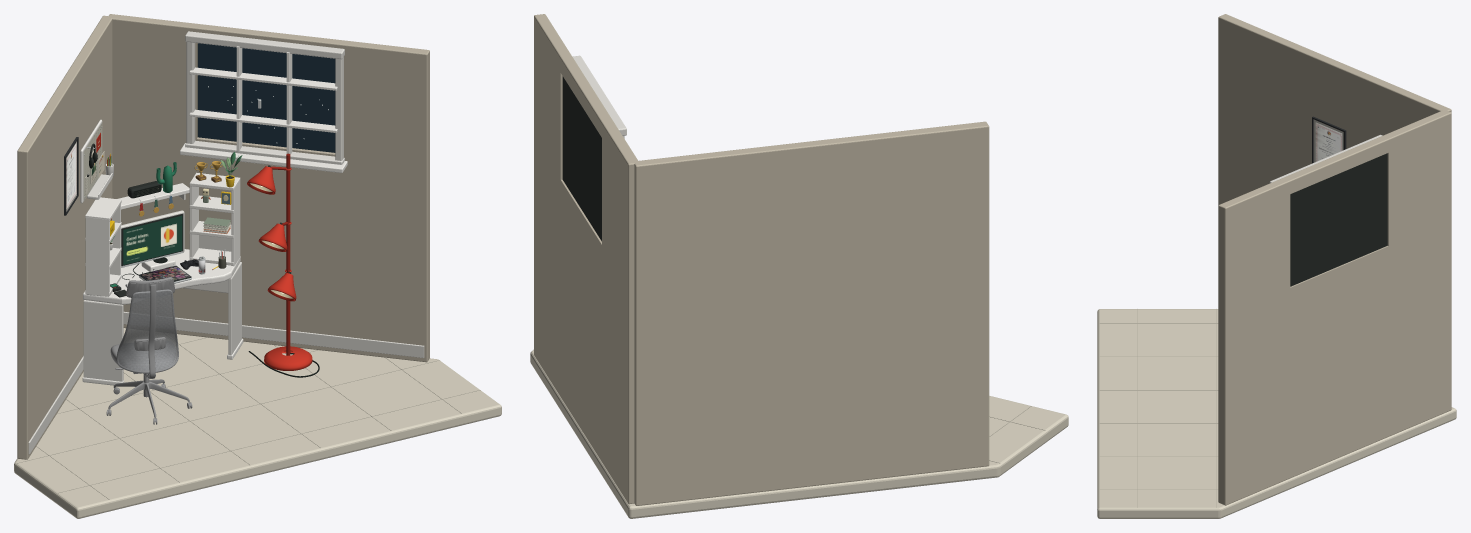
Rendered from workspace-saved.glb.
3 renders of one model, left to right at view 1: azimuth 30°, elevation 25°; view 2: azimuth 150°, elevation 25°; view 3: azimuth 270°, elevation 25°, orthographic. The views are drawn at different scales.
Visible parts, largest first — view 1: _static · Limewashed plaster, Room floor, window_glass, _static · Warm powder-coated white, chair · Supplied ergonomic office chair, window · Porcelain edges, window · Warm powder-coated white, workspace_left_wing · Porcelain edges, _static · Porcelain edges, workspace_right_wing · Porcelain edges, monitor_screen, _static · Tile grout (+4 smaller); view 2: _static · Limewashed plaster, Room floor, Window deep recess, window · Warm powder-coated white; view 3: _static · Limewashed plaster, Room floor, Window deep recess, _static · Tile grout, certificate_iitg · Degree print.
Boxes of the visible parts, bbox=[...] form: _static · Limewashed plaster: bbox=[17, 14, 429, 459]; Room floor: bbox=[14, 328, 501, 518]; window_glass: bbox=[198, 43, 335, 152]; _static · Warm powder-coated white: bbox=[28, 194, 424, 454]; chair · Supplied ergonomic office chair: bbox=[106, 277, 192, 424]; window · Porcelain edges: bbox=[180, 46, 347, 172]; window · Warm powder-coated white: bbox=[185, 31, 344, 164]; workspace_left_wing · Porcelain edges: bbox=[80, 119, 121, 296]; _static · Porcelain edges: bbox=[82, 183, 243, 385]; workspace_right_wing · Porcelain edges: bbox=[189, 172, 240, 266]; monitor_screen: bbox=[123, 215, 182, 264]; _static · Tile grout: bbox=[17, 337, 480, 499]; _static · Limewashed plaster: bbox=[534, 14, 989, 505]; Room floor: bbox=[530, 350, 1068, 518]; Window deep recess: bbox=[562, 76, 601, 241]; window · Warm powder-coated white: bbox=[572, 55, 626, 138]; _static · Limewashed plaster: bbox=[1218, 14, 1451, 505]; Room floor: bbox=[1097, 309, 1456, 518]; Window deep recess: bbox=[1290, 153, 1387, 286]; _static · Tile grout: bbox=[1100, 309, 1420, 507]; certificate_iitg · Degree print: bbox=[1315, 122, 1342, 161].
Bounding box in the file's own units: 6.64 × 4.76 × 5.02.
Materials: 68 (12 with a texture image).
